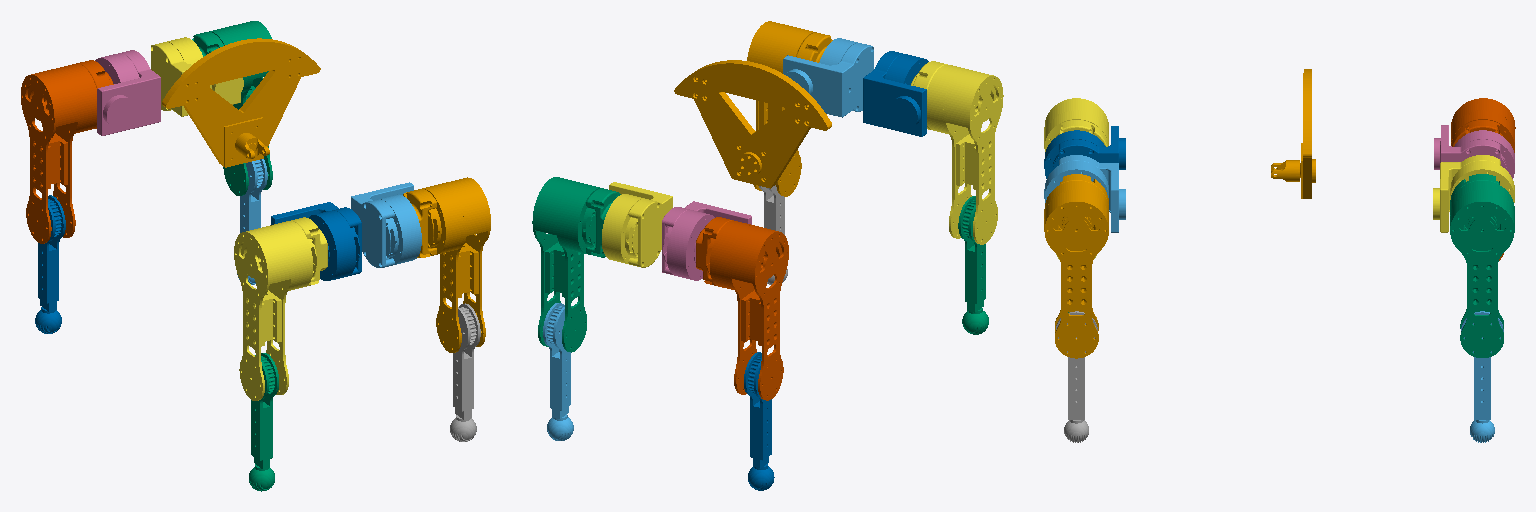
--- What the picture shows (computed from the rendered views, not written in the file) ---
Views: 3 orthographic renders of the robot side by side, from view 1: azimuth 30°, elevation 25°; view 2: azimuth 150°, elevation 25°; view 3: azimuth 270°, elevation 25°.
Model astra with 16 links and 15 joints (15 revolute), rooted at Base_link, posed every joint at zero.
Links seen in each view (by area): view 1: Spine, RL_femur, FL_femur, RR_femur, RR_hip, FL_hip, RL_hip, RR_tibia, RL_tibia, FR_femur, FL_tibia, FR_hip (+1 smaller); view 2: Spine, FL_femur, RL_femur, FR_femur, RR_hip, FR_hip, RL_hip, RR_femur, FL_hip, FR_tibia, FL_tibia, RL_tibia (+1 smaller); view 3: RR_femur, FR_femur, FR_hip, RR_hip, RL_hip, FL_hip, RL_femur, FL_femur, Spine, FR_tibia, RR_tibia.
Link boxes in pixels (box(x1,y1,x2,y2)): Spine: box(162, 38, 320, 167); RL_femur: box(234, 217, 327, 400); FL_femur: box(21, 60, 113, 243); RR_femur: box(403, 177, 490, 352); RR_hip: box(351, 182, 421, 267); FL_hip: box(95, 50, 160, 135); RL_hip: box(271, 202, 361, 280); RR_tibia: box(450, 303, 480, 441); RL_tibia: box(249, 353, 278, 491); FR_femur: box(192, 21, 272, 195); FL_tibia: box(35, 195, 65, 333); FR_hip: box(151, 37, 243, 116); Spine: box(674, 60, 831, 188); FL_femur: box(696, 217, 788, 400); RL_femur: box(911, 61, 1003, 244); FR_femur: box(532, 177, 620, 352); RR_hip: box(783, 38, 873, 117); FR_hip: box(602, 182, 672, 267); RL_hip: box(863, 51, 928, 136); RR_femur: box(747, 21, 832, 196); FL_hip: box(662, 201, 751, 280); FR_tibia: box(543, 303, 573, 440); FL_tibia: box(744, 352, 774, 490); RL_tibia: box(958, 196, 988, 334); RR_femur: box(1044, 174, 1108, 358); FR_femur: box(1450, 174, 1514, 357); FR_hip: box(1433, 155, 1514, 232); RR_hip: box(1044, 155, 1125, 232); RL_hip: box(1044, 126, 1125, 178); FL_hip: box(1434, 125, 1514, 178); RL_femur: box(1044, 98, 1108, 259); FL_femur: box(1451, 98, 1515, 260); Spine: box(1271, 69, 1315, 198); FR_tibia: box(1461, 311, 1503, 442); RR_tibia: box(1056, 311, 1097, 442).
Bounding box of the posed robot: 0.2909 × 0.5548 × 0.4119 m (x, y, z).
13 mesh visuals loaded from 16 distinct referenced files (13 binary STL); not drawn: 3 (reference not matched to a file when rendering).

robot.urdf — astra:
<?xml version='1.0' encoding='utf-8'?>
<robot name="astra">
    <link name="Spine">
        <inertial>
            <origin xyz="0.02769385984751416 -0.006697646524053425 0.03140014675274089" rpy="0.0 -0.0 0.0" />
            <mass value="0.2716788388343432" />
            <inertia ixx="0.00028813863899506006" iyy="0.0004435432371230341" izz="0.0006822424384377752" ixy="-1.1374085606633954e-06" iyz="1.6776739416090396e-06" ixz="-4.969926318824534e-05" />
        </inertial>
        <visual name="Spine_visual">
            <origin xyz="-0.2765000021051775 -0.006999947933427104 2.6686708084727728e-05" rpy="1.5707963267940581 0.007625102576444858 1.5707963267948946" />
            <geometry>
                <mesh filename="meshes/Spine.stl" scale="0.001 0.001 0.001" />
            </geometry>
        </visual>
        <collision name="Spine_collision">
            <origin xyz="-0.2765000021051775 -0.006999947933427104 2.6686708084727728e-05" rpy="1.5707963267940581 0.007625102576444858 1.5707963267948946" />
            <geometry>
                <mesh filename="meshes/Spine.stl" scale="0.001 0.001 0.001" />
            </geometry>
        </collision>
    </link>
    <link name="FR_tibia">
        <inertial>
            <origin xyz="-0.05148378979881365 -0.01699950807685667 0.00012936828483873342" rpy="0.0 -0.0 0.0" />
            <mass value="0.06643041309117052" />
            <inertia ixx="7.3241854965152425e-06" iyy="0.00017282619397882178" izz="0.00016950471436330983" ixy="-1.0920844415419499e-11" iyz="-2.3886775781754105e-08" ixz="-1.4321870343302173e-09" />
        </inertial>
        <visual name="FR_tibia_visual">
            <origin xyz="-0.12650000210517606 0.11487056547626065 0.24488122968499196" rpy="-1.5707963267957352 -0.007625102576446537 -1.5707963267948946" />
            <geometry>
                <mesh filename="meshes/FR_tibia.stl" scale="0.001 0.001 0.001" />
            </geometry>
        </visual>
        <collision name="FR_tibia_collision">
            <origin xyz="-0.12650000210517606 0.11487056547626065 0.24488122968499196" rpy="-1.5707963267957352 -0.007625102576446537 -1.5707963267948946" />
            <geometry>
                <mesh filename="meshes/FR_tibia.stl" scale="0.001 0.001 0.001" />
            </geometry>
        </collision>
    </link>
    <link name="FR_femur">
        <inertial>
            <origin xyz="-0.009632030109484048 0.04662072068236703 -0.001018747807288385" rpy="-1.9721522630525295e-31 -0.0 0.0" />
            <mass value="0.5478239660925192" />
            <inertia ixx="0.00038983662569730404" iyy="0.0009198142691163179" izz="0.00095056365284809" ixy="0.00012718937153704052" iyz="-1.0135726810300818e-05" ixz="2.5436776278709038e-06" />
        </inertial>
        <visual name="FR_femur_visual">
            <origin xyz="-0.2665000021051761 -0.05787222547626062 -0.24531584968499195" rpy="1.5707963267940581 0.007625102576446425 1.5707963267948946" />
            <geometry>
                <mesh filename="meshes/FR_femur.stl" scale="0.001 0.001 0.001" />
            </geometry>
        </visual>
        <collision name="FR_femur_collision">
            <origin xyz="-0.2665000021051761 -0.05787222547626062 -0.24531584968499195" rpy="1.5707963267940581 0.007625102576446425 1.5707963267948946" />
            <geometry>
                <mesh filename="meshes/FR_femur.stl" scale="0.001 0.001 0.001" />
            </geometry>
        </collision>
    </link>
    <link name="FR_hip">
        <inertial>
            <origin xyz="0.05152677276375954 -6.812267368466962e-05 -0.02832992195958169" rpy="0.0 -1.7598217861546274e-46 0.0" />
            <mass value="0.4276561259852312" />
            <inertia ixx="0.0002238777317536758" iyy="0.0003062069058394311" izz="0.0003823631243674157" ixy="2.129288805586995e-07" iyz="-5.588930044728158e-07" ixz="2.4434049486920164e-05" />
        </inertial>
        <visual name="FR_hip_visual">
            <origin xyz="-0.18721078968548568 -0.26650000210887714 -0.07142956547639677" rpy="1.5707963267949439 -1.5631712242184466 3.1415926535895866" />
            <geometry>
                <mesh filename="meshes/FR_hip.stl" scale="0.001 0.001 0.001" />
            </geometry>
        </visual>
        <collision name="FR_hip_collision">
            <origin xyz="-0.18721078968548568 -0.26650000210887714 -0.07142956547639677" rpy="1.5707963267949439 -1.5631712242184466 3.1415926535895866" />
            <geometry>
                <mesh filename="meshes/FR_hip.stl" scale="0.001 0.001 0.001" />
            </geometry>
        </collision>
    </link>
    <link name="FL_tibia">
        <inertial>
            <origin xyz="-0.05148378980268236 -0.016999507429937194 0.0001293705355556085" rpy="0.0 -0.0 0.0" />
            <mass value="0.06643041309117047" />
            <inertia ixx="7.324185496590703e-06" iyy="0.0001728261939788955" izz="0.00016950471436334453" ixy="-1.0920903179173094e-11" iyz="-2.3886775780877108e-08" ixz="-1.432187415537508e-09" />
        </inertial>
        <visual name="FL_tibia_visual">
            <origin xyz="-0.12650000210517603 0.11112286452374004 -0.24660447968499197" rpy="1.5707963267940581 0.007625102576443637 1.5707963267948946" />
            <geometry>
                <mesh filename="meshes/FL_tibia.stl" scale="0.001 0.001 0.001" />
            </geometry>
        </visual>
        <collision name="FL_tibia_collision">
            <origin xyz="-0.12650000210517603 0.11112286452374004 -0.24660447968499197" rpy="1.5707963267940581 0.007625102576443637 1.5707963267948946" />
            <geometry>
                <mesh filename="meshes/FL_tibia.stl" scale="0.001 0.001 0.001" />
            </geometry>
        </collision>
    </link>
    <link name="FL_femur">
        <inertial>
            <origin xyz="-0.009525673473169113 0.04663083445845105 0.00030768809464063905" rpy="1.9721522630525295e-31 -0.0 0.0" />
            <mass value="0.54782396609252" />
            <inertia ixx="0.00038983662569448685" iyy="0.0009212467337586243" izz="0.0009513636241155758" ixy="0.00012859805913639086" iyz="1.0599874377095021e-05" ixz="-4.4279953090515305e-06" />
        </inertial>
        <visual name="FL_femur_visual">
            <origin xyz="-0.26650000210517605 -0.05412452452374012 0.246169859684992" rpy="-1.5707963267957352 -0.007625102576443339 -1.5707963267948946" />
            <geometry>
                <mesh filename="meshes/FL_femur.stl" scale="0.001 0.001 0.001" />
            </geometry>
        </visual>
        <collision name="FL_femur_collision">
            <origin xyz="-0.26650000210517605 -0.05412452452374012 0.246169859684992" rpy="-1.5707963267957352 -0.007625102576443339 -1.5707963267948946" />
            <geometry>
                <mesh filename="meshes/FL_femur.stl" scale="0.001 0.001 0.001" />
            </geometry>
        </collision>
    </link>
    <link name="FL_hip">
        <inertial>
            <origin xyz="0.05108876478156873 6.81191361698552e-05 0.02911238840901846" rpy="0.0 -1.7598217861546274e-46 0.0" />
            <mass value="0.4276561259852311" />
            <inertia ixx="0.00022465972063374917" iyy="0.00030620690583941373" izz="0.0003815811354755535" ixy="-2.0437091610355143e-07" iyz="-5.620767966883576e-07" ixz="-2.6839245207135573e-05" />
        </inertial>
        <visual name="FL_hip_visual">
            <origin xyz="-0.1882782896854858 -0.2665000021088764 0.06856636452360315" rpy="1.570796326794942 -1.5631712242184466 3.1415926535895866" />
            <geometry>
                <mesh filename="meshes/FL_hip.stl" scale="0.001 0.001 0.001" />
            </geometry>
        </visual>
        <collision name="FL_hip_collision">
            <origin xyz="-0.1882782896854858 -0.2665000021088764 0.06856636452360315" rpy="1.570796326794942 -1.5631712242184466 3.1415926535895866" />
            <geometry>
                <mesh filename="meshes/FL_hip.stl" scale="0.001 0.001 0.001" />
            </geometry>
        </collision>
    </link>
    <link name="RR_tibia">
        <inertial>
            <origin xyz="-0.05148378938247298 -0.01699987372410975 6.455377009196184e-05" rpy="-1.9721522630525295e-31 -0.0 0.0" />
            <mass value="0.06643041309117047" />
            <inertia ixx="7.324185496501365e-06" iyy="0.000172826327836868" izz="0.00016950458050522859" ixy="-5.460494578201795e-12" iyz="-1.1222892580972054e-08" ixz="-1.432218403553481e-09" />
        </inertial>
        <visual name="RR_tibia_visual">
            <origin xyz="-0.12600000210517748 0.11210704793323065 -0.23442911670881217" rpy="-1.5707963267948877 -0.0038125512531824745 -1.5707963267948946" />
            <geometry>
                <mesh filename="meshes/RR_tibia.stl" scale="0.001 0.001 0.001" />
            </geometry>
        </visual>
        <collision name="RR_tibia_collision">
            <origin xyz="-0.12600000210517748 0.11210704793323065 -0.23442911670881217" rpy="-1.5707963267948877 -0.0038125512531824745 -1.5707963267948946" />
            <geometry>
                <mesh filename="meshes/RR_tibia.stl" scale="0.001 0.001 0.001" />
            </geometry>
        </collision>
    </link>
    <link name="RR_femur">
        <inertial>
            <origin xyz="-0.009525673053035071 0.04662932633818336 0.00048546063817536125" rpy="1.9721522630525295e-31 -0.0 0.0" />
            <mass value="0.5478239660925199" />
            <inertia ixx="0.0003898366261738048" iyy="0.0009211663476761394" izz="0.0009514440107178256" ixy="0.00012861400643020968" iyz="1.0484745251910334e-05" ixz="-3.937677349824315e-06" />
        </inertial>
        <visual name="RR_femur_visual">
            <origin xyz="-0.2660000021051775 -0.05510745793323071 0.23421179670881226" rpy="1.5707963267949057 0.003812551253182178 1.5707963267948946" />
            <geometry>
                <mesh filename="meshes/RR_femur.stl" scale="0.001 0.001 0.001" />
            </geometry>
        </visual>
        <collision name="RR_femur_collision">
            <origin xyz="-0.2660000021051775 -0.05510745793323071 0.23421179670881226" rpy="1.5707963267949057 0.003812551253182178 1.5707963267948946" />
            <geometry>
                <mesh filename="meshes/RR_femur.stl" scale="0.001 0.001 0.001" />
            </geometry>
        </collision>
    </link>
    <link name="RR_hip">
        <inertial>
            <origin xyz="0.05119938415783576 -6.811914863366297e-05 -0.028917404603797152" rpy="0.0 -1.9914417216547702e-43 0.0" />
            <mass value="0.42765614096569765" />
            <inertia ixx="0.00022445736633032952" iyy="0.0003062069227032921" izz="0.00038178352227940615" ixy="2.065100330026226e-07" iyz="-5.612900104959906e-07" ixz="2.624020499396785e-05" />
        </inertial>
        <visual name="RR_hip_visual">
            <origin xyz="-0.17626559670936304 0.2660000021006799 -0.06932848792833637" rpy="1.570796326796866 -1.566983775538314 -6.017748589733377e-13" />
            <geometry>
                <mesh filename="meshes/RR_hip.stl" scale="0.001 0.001 0.001" />
            </geometry>
        </visual>
        <collision name="RR_hip_collision">
            <origin xyz="-0.17626559670936304 0.2660000021006799 -0.06932848792833637" rpy="1.570796326796866 -1.566983775538314 -6.017748589733377e-13" />
            <geometry>
                <mesh filename="meshes/RR_hip.stl" scale="0.001 0.001 0.001" />
            </geometry>
        </collision>
    </link>
    <link name="RL_tibia">
        <inertial>
            <origin xyz="-0.05148379137860532 -0.016999878634483975 6.455850487306236e-05" rpy="-1.9721522630525295e-31 -0.0 0.0" />
            <mass value="0.06643041309117051" />
            <inertia ixx="7.324185496485752e-06" iyy="0.00017282632783685066" izz="0.00016950458050517047" ixy="-5.460546511489653e-12" iyz="-1.122289258141454e-08" ixz="-1.4322184996119867e-09" />
        </inertial>
        <visual name="RL_tibia_visual">
            <origin xyz="-0.12600000210517753 0.11389131206676995 0.23356748670881217" rpy="1.5707963267949057 0.003812551253185125 1.5707963267948946" />
            <geometry>
                <mesh filename="meshes/RL_tibia.stl" scale="0.001 0.001 0.001" />
            </geometry>
        </visual>
        <collision name="RL_tibia_collision">
            <origin xyz="-0.12600000210517753 0.11389131206676995 0.23356748670881217" rpy="1.5707963267949057 0.003812551253185125 1.5707963267948946" />
            <geometry>
                <mesh filename="meshes/RL_tibia.stl" scale="0.001 0.001 0.001" />
            </geometry>
        </collision>
    </link>
    <link name="RL_femur">
        <inertial>
            <origin xyz="-0.00963203168935646 0.04662426400033632 -0.0008410011746263635" rpy="1.9721522630525295e-31 -0.0 0.0" />
            <mass value="0.5478239660925199" />
            <inertia ixx="0.0003898366261703909" iyy="0.0009198920017766126" izz="0.0009504859207040074" ixy="0.00012717874927199726" iyz="-1.0252664727119344e-05" ixz="3.028573708353569e-06" />
        </inertial>
        <visual name="RL_femur_visual">
            <origin xyz="-0.2660000021051775 -0.05689173206676993 -0.23378479670881228" rpy="-1.5707963267948877 -0.0038125512531850146 -1.5707963267948946" />
            <geometry>
                <mesh filename="meshes/RL_femur.stl" scale="0.001 0.001 0.001" />
            </geometry>
        </visual>
        <collision name="RL_femur_collision">
            <origin xyz="-0.2660000021051775 -0.05689173206676993 -0.23378479670881228" rpy="-1.5707963267948877 -0.0038125512531850146 -1.5707963267948946" />
            <geometry>
                <mesh filename="meshes/RL_femur.stl" scale="0.001 0.001 0.001" />
            </geometry>
        </collision>
    </link>
    <link name="RL_hip">
        <inertial>
            <origin xyz="0.05141838587026122 6.812382988069743e-05 0.028526167165902866" rpy="0.0 -1.9914417216547702e-43 0.0" />
            <mass value="0.42765614096569793" />
            <inertia ixx="0.00022406636045059828" iyy="0.00030620692270314984" izz="0.0003821745281705935" ixy="-2.107936425915314e-07" iyz="-5.59697237668181e-07" ixz="-2.5037572159495846e-05" />
        </inertial>
        <visual name="RL_hip_visual">
            <origin xyz="-0.17573184670841088 0.2660000021010266 0.07067050207165984" rpy="1.5707963267968643 -1.566983775538314 -6.017748589733384e-13" />
            <geometry>
                <mesh filename="meshes/RL_hip.stl" scale="0.001 0.001 0.001" />
            </geometry>
        </visual>
        <collision name="RL_hip_collision">
            <origin xyz="-0.17573184670841088 0.2660000021010266 0.07067050207165984" rpy="1.5707963267968643 -1.566983775538314 -6.017748589733384e-13" />
            <geometry>
                <mesh filename="meshes/RL_hip.stl" scale="0.001 0.001 0.001" />
            </geometry>
        </collision>
    </link>
    <link name="Frontpart">
        <inertial>
            <origin xyz="0.07482832178288953 -0.011819323695477594 -0.0009062014731250256" rpy="0.0 -0.0 0.0" />
            <mass value="2.6950744218640232" />
            <inertia ixx="0.013420879847097694" iyy="0.013191602036138658" izz="0.010735525665266032" ixy="0.00048748918514439354" iyz="2.047238312624655e-05" ixz="-3.135508446171307e-05" />
        </inertial>
        <visual name="Frontpart_visual">
            <origin xyz="-0.049498559685484694 0.27650000210517595 0.00037743547645737954" rpy="-1.5707963267947913 1.5631712242184463 -3.141592653589528" />
            <geometry>
                <mesh filename="meshes/Frontpart.stl" scale="0.001 0.001 0.001" />
            </geometry>
        </visual>
        <collision name="Frontpart_collision">
            <origin xyz="-0.049498559685484694 0.27650000210517595 0.00037743547645737954" rpy="-1.5707963267947913 1.5631712242184463 -3.141592653589528" />
            <geometry>
                <mesh filename="meshes/Frontpart.stl" scale="0.001 0.001 0.001" />
            </geometry>
        </collision>
    </link>
    <link name="Backpart">
        <inertial>
            <origin xyz="-0.10870601628045662 0.0002838663607903813 0.005666258406695306" rpy="0.0 -0.0 0.0" />
            <mass value="2.332620946077069" />
            <inertia ixx="0.011882500249382172" iyy="0.009075484807072126" izz="0.01216735450819308" ixy="-1.2916302380370707e-05" iyz="-4.196309802355309e-06" ixz="-1.0472215236756683e-05" />
        </inertial>
        <visual name="Backpart_visual">
            <origin xyz="-3.2911875974539486e-09 -2.0667696487564057e-09 -0.2835000021051775" rpy="-4.530171917137859e-15 -2.0539484545575828e-15 -1.5746088780480803" />
            <geometry>
                <mesh filename="meshes/Backpart.stl" scale="0.001 0.001 0.001" />
            </geometry>
        </visual>
        <collision name="Backpart_collision">
            <origin xyz="-3.2911875974539486e-09 -2.0667696487564057e-09 -0.2835000021051775" rpy="-4.530171917137859e-15 -2.0539484545575828e-15 -1.5746088780480803" />
            <geometry>
                <mesh filename="meshes/Backpart.stl" scale="0.001 0.001 0.001" />
            </geometry>
        </collision>
    </link>
    <link name="Base_link">
        <inertial>
            <origin xyz="-0.18231474926451013 -0.16574314175727461 0.29280299670427995" rpy="0.0 0.0 0.0" />
            <mass value="0.0036615962412117928" />
            <inertia ixx="4.3452480168672554e-08" iyy="7.505361749267862e-08" izz="4.3452480167195746e-08" ixy="1.4998277566592202e-18" iyz="-1.097554315318403e-17" ixz="-2.99757533226139e-18" />
        </inertial>
        <visual name="Base_link_visual">
            <origin xyz="0.0 0.0 0.0" rpy="0.0 0.0 0.0" />
            <geometry>
                <mesh filename="meshes/Base_link.stl" scale="0.001 0.001 0.001" />
            </geometry>
        </visual>
        <collision name="Base_link_collision">
            <origin xyz="0.0 0.0 0.0" rpy="0.0 0.0 0.0" />
            <geometry>
                <mesh filename="meshes/Base_link.stl" scale="0.001 0.001 0.001" />
            </geometry>
        </collision>
    </link>
    <joint name="Frontpart_FL_j_hip" type="revolute">
        <origin xyz="0.13877973000000002 0.01 0.0689438" rpy="3.1415926535897927 -4.771497806585007e-35 -3.944304526105059e-31" />
        <parent link="Frontpart" />
        <child link="FL_hip" />
        <axis xyz="-0.999971 3.4020296938582826e-18 -0.007624999999996716" />
        <limit lower="-0.523599" upper="0.523599" effort="60" velocity="100" />
    </joint>
    <joint name="Frontpart_FR_j_hip" type="revolute">
        <origin xyz="0.13771223 0.01 -0.07105213" rpy="3.1415926535897927 -4.771497806585007e-35 -3.944304526105059e-31" />
        <parent link="Frontpart" />
        <child link="FR_hip" />
        <axis xyz="-0.999971 3.4020296938582826e-18 -0.007624999999996716" />
        <limit lower="-0.523599" upper="0.523599" effort="60" velocity="100" />
    </joint>
    <joint name="Backpart_RR_j_hip" type="revolute">
        <origin xyz="-0.17626560000000002 -0.06932849 -0.0175" rpy="-1.5707963267948968 7.689375450873787e-28 -3.1415926535863945" />
        <parent link="Backpart" />
        <child link="RR_hip" />
        <axis xyz="0.9999929999999873 9.234075398025226e-19 -0.0038130000033988177" />
        <limit lower="-0.523599" upper="0.523599" effort="60" velocity="100" />
    </joint>
    <joint name="Backpart_RL_j_hip" type="revolute">
        <origin xyz="-0.17573185000000002 0.0706705 -0.0175" rpy="-1.5707963267948968 7.689375450873787e-28 -3.1415926535863945" />
        <parent link="Backpart" />
        <child link="RL_hip" />
        <axis xyz="0.9999929999999873 9.234075398025226e-19 -0.0038130000033988177" />
        <limit lower="-0.523599" upper="0.523599" effort="60" velocity="100" />
    </joint>
    <joint name="FR_hip_FR_j_femur" type="revolute">
        <origin xyz="0.05810505999999993 0.0 -0.01355734000000001" rpy="1.5707963267948981 -4.461678287026247e-16 1.5707963267948966" />
        <parent link="FR_hip" />
        <child link="FR_femur" />
        <axis xyz="-1.0097126761660934e-28 0.9999710000000003 -0.007625000000001545" />
        <limit lower="-2.094395" upper="2.094395" effort="60" velocity="100" />
    </joint>
    <joint name="FL_hip_FL_j_femur" type="revolute">
        <origin xyz="0.05789157000000003 -3.552713678800501e-17 0.014441840000000004" rpy="-1.5707963267948981 -4.461678287026247e-16 1.5707963267948966" />
        <parent link="FL_hip" />
        <child link="FL_femur" />
        <axis xyz="1.0097126761660934e-28 0.9999710000000003 -0.0076249999999984585" />
        <limit lower="-2.094395" upper="2.094395" effort="60" velocity="100" />
    </joint>
    <joint name="RR_hip_RR_j_femur" type="revolute">
        <origin xyz="0.05794619999995163 0.0 -0.014221030000196953" rpy="1.5707963267914962 2.421734958835809e-16 -1.5707963267948966" />
        <parent link="RR_hip" />
        <child link="RR_femur" />
        <axis xyz="1.5777107663893505e-30 0.9999930000000002 -0.0038129999999984582" />
        <limit lower="-2.094395" upper="2.094395" effort="60" velocity="100" />
    </joint>
    <joint name="RL_hip_RL_j_femur" type="revolute">
        <origin xyz="0.0580529500000468 0.0 0.013778769999802693" rpy="-1.570796326798294 2.421734958835809e-16 -1.5707963267948966" />
        <parent link="RL_hip" />
        <child link="RL_femur" />
        <axis xyz="-1.5716949131261352e-30 0.9999930000000002 -0.0038130000000012945" />
        <limit lower="-2.094395" upper="2.094395" effort="60" velocity="100" />
    </joint>
    <joint name="FR_femur_FR_j_tibia" type="revolute">
        <origin xyz="-0.14 0.05699833999999998 -0.0004346200000000522" rpy="-3.141592653589793 1.5570263517904096e-43 1.0097419586828949e-28" />
        <parent link="FR_femur" />
        <child link="FR_tibia" />
        <axis xyz="0.0 0.999971 -0.007625000000001654" />
        <limit lower="-2.094395" upper="2.094395" effort="60" velocity="100" />
    </joint>
    <joint name="FL_femur_FL_j_tibia" type="revolute">
        <origin xyz="-0.13999999999999999 0.05699833999999998 -0.00043461999999983903" rpy="-3.141592653589793 1.5587779748584241e-43 -1.0097419586828949e-28" />
        <parent link="FL_femur" />
        <child link="FL_tibia" />
        <axis xyz="0.0 0.999971 -0.0076249999999987534" />
        <limit lower="-2.094395" upper="2.094395" effort="60" velocity="100" />
    </joint>
    <joint name="RR_femur_RR_j_tibia" type="revolute">
        <origin xyz="-0.13999999999999999 0.056999589999999996 -0.00021731999999992978" rpy="-3.141592653589793 1.5777218104420233e-30 2.45227231256843e-45" />
        <parent link="RR_femur" />
        <child link="RR_tibia" />
        <axis xyz="-1.583726619652566e-30 0.9999930000000002 -0.003812999999998755" />
        <limit lower="-2.094395" upper="2.094395" effort="60" velocity="100" />
    </joint>
    <joint name="RL_femur_RL_j_tibia" type="revolute">
        <origin xyz="-0.14 0.05699957999999998 -0.0002173100000000261" rpy="-3.141592653589793 -3.1554436208840465e-30 4.203895392974451e-45" />
        <parent link="RL_femur" />
        <child link="RL_tibia" />
        <axis xyz="1.583726619652566e-30 0.9999930000000002 -0.0038130000000014055" />
        <limit lower="-2.094395" upper="2.094395" effort="60" velocity="100" />
    </joint>
    <joint name="Base_link_Back_j_Base" type="revolute">
        <origin xyz="-0.18231475134396463 -0.165743138473793 0.29980299880961664" rpy="1.6528634893082283e-15 -5.094888957201467e-15 1.5746088781181597" />
        <parent link="Base_link" />
        <child link="Backpart" />
        <axis xyz="0.0 1.5706152165479998e-17 1.0" />
        <limit lower="-0.523599" upper="0.523599" effort="60" velocity="100" />
    </joint>
    <joint name="Base_link_Spine_j_Base" type="revolute">
        <origin xyz="-0.1753147504612079 -0.1657431406758344 0.29280299880961663" rpy="-1.5669837754716363 -1.5707963267948852 0" />
        <parent link="Base_link" />
        <child link="Spine" />
        <axis xyz="1.5777107663893505e-30 0.999993 -0.003813" />
        <limit lower="-0.523599" upper="0.523599" effort="60" velocity="100" />
    </joint>
    <joint name="Spine_Front_j_Spine" type="revolute">
        <origin xyz="0.0 -0.006633950000000004 0.04802529" rpy="1.5707963267948966 -1.5707963267948966 0" />
        <parent link="Spine" />
        <child link="Frontpart" />
        <axis xyz="0.999971 2.3476043000052282e-30 -0.007625" />
        <limit lower="-0.523599" upper="0.523599" effort="60" velocity="100" />
    </joint>
</robot>
